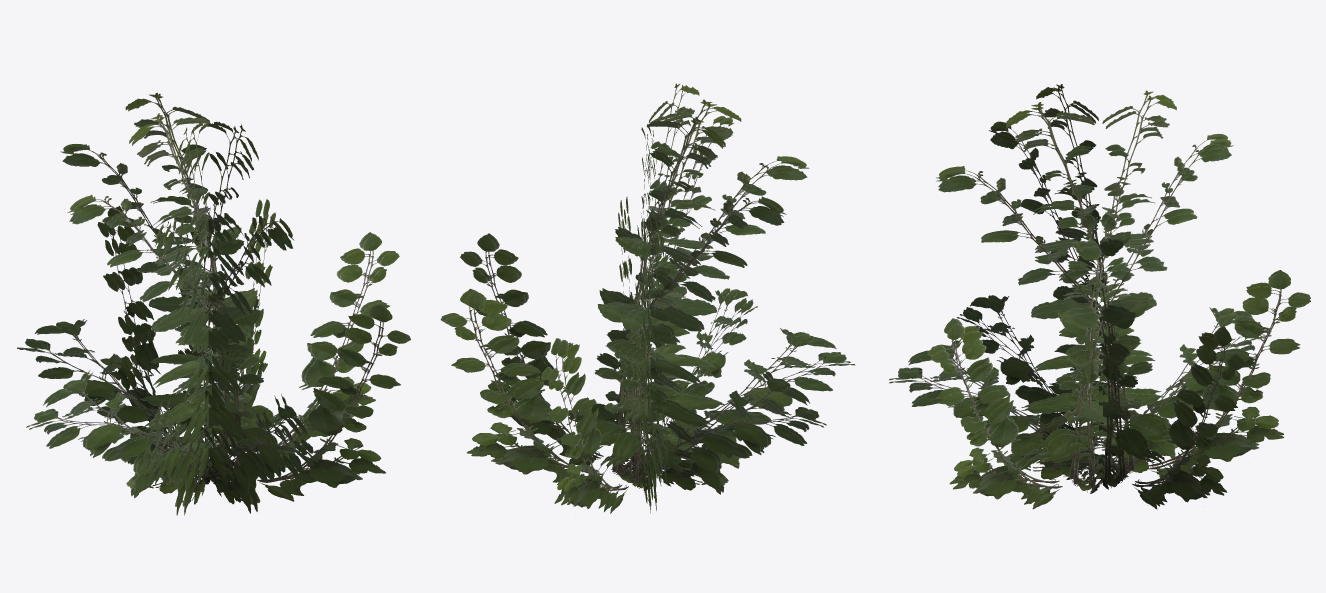
Rendered from grass.fbx.
3 renders of one model, left to right at view 1: azimuth 30°, elevation 25°; view 2: azimuth 150°, elevation 25°; view 3: azimuth 270°, elevation 25°, orthographic.
Parts seen in each view (by area): view 1: Plane.003; view 2: Plane.003; view 3: Plane.003.
Part boxes in pixels (x1,y1,x2,y2): Plane.003: [17, 92, 410, 515]; Plane.003: [440, 83, 855, 513]; Plane.003: [889, 84, 1310, 509].
Size of the model in its own units: 2 by 2.02 by 2.
1 material, 1 textured.
